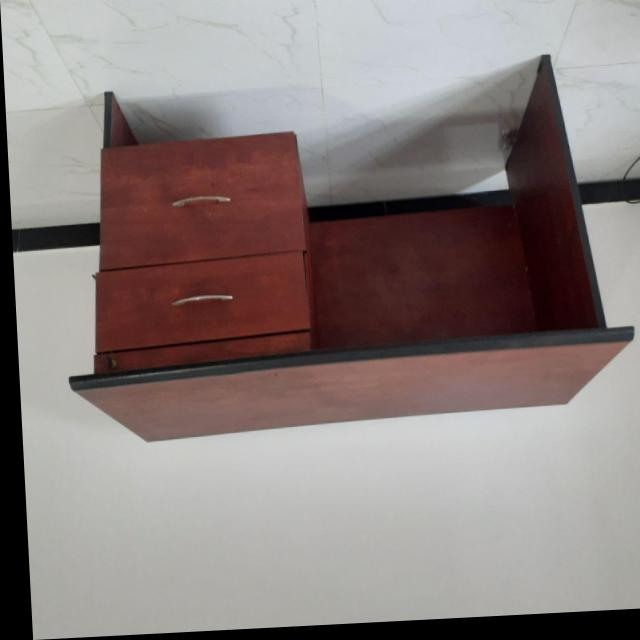Table: (21, 32, 640, 476)
